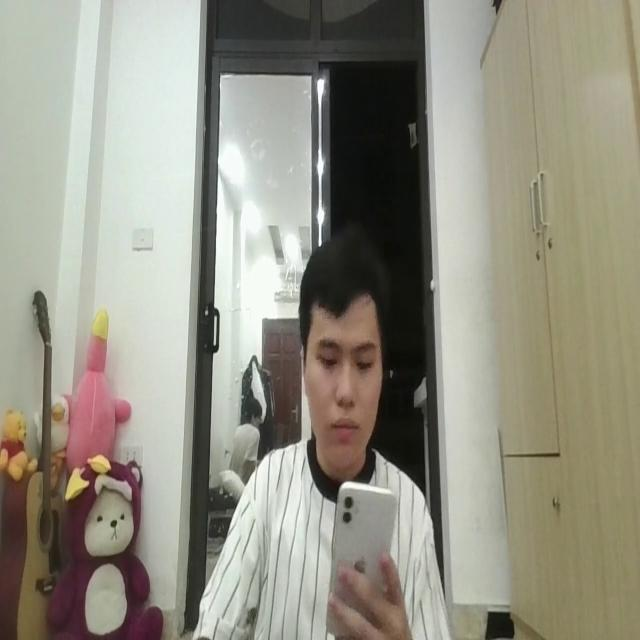phone: (331, 470, 398, 637)
student: (178, 223, 449, 640)
